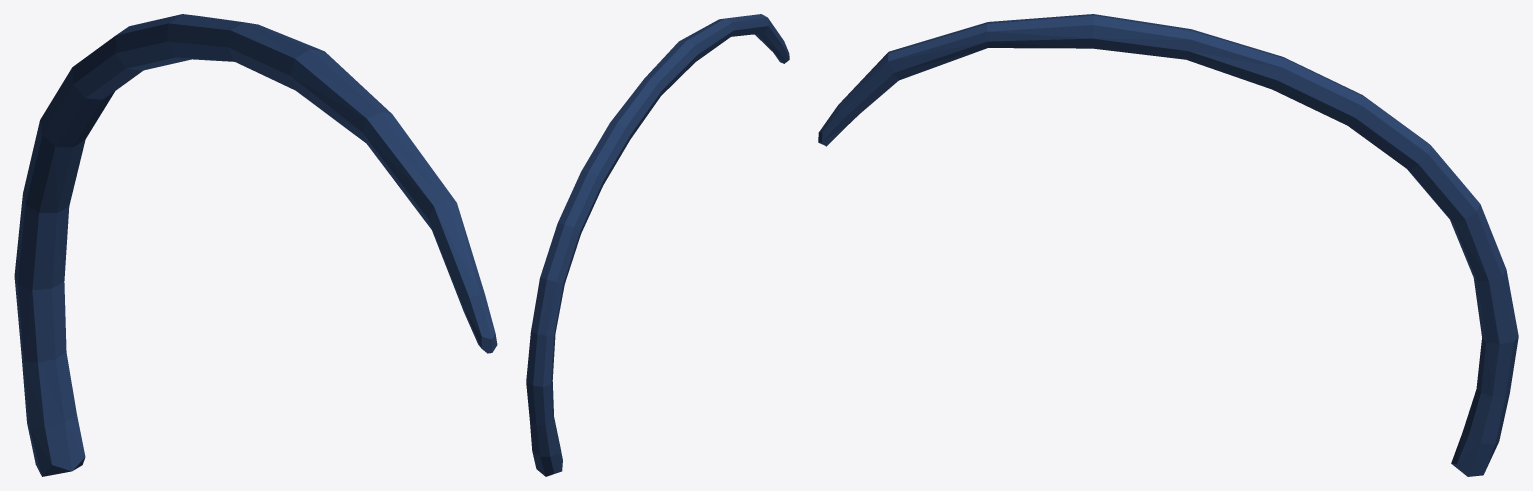
Rendered from Seno Sagital Inferior.FBX.
3 renders of one model, left to right at view 1: azimuth 30°, elevation 25°; view 2: azimuth 150°, elevation 25°; view 3: azimuth 270°, elevation 25°, orthographic. The views are drawn at different scales.
Visible parts, largest first — view 1: CS_Veins; view 2: CS_Veins; view 3: CS_Veins.
Boxes of the visible parts, bbox=[...] form: CS_Veins: bbox=[14, 14, 497, 476]; CS_Veins: bbox=[526, 14, 789, 476]; CS_Veins: bbox=[818, 14, 1518, 476].
Bounding box in the file's own units: 13.7 × 177 × 245.
